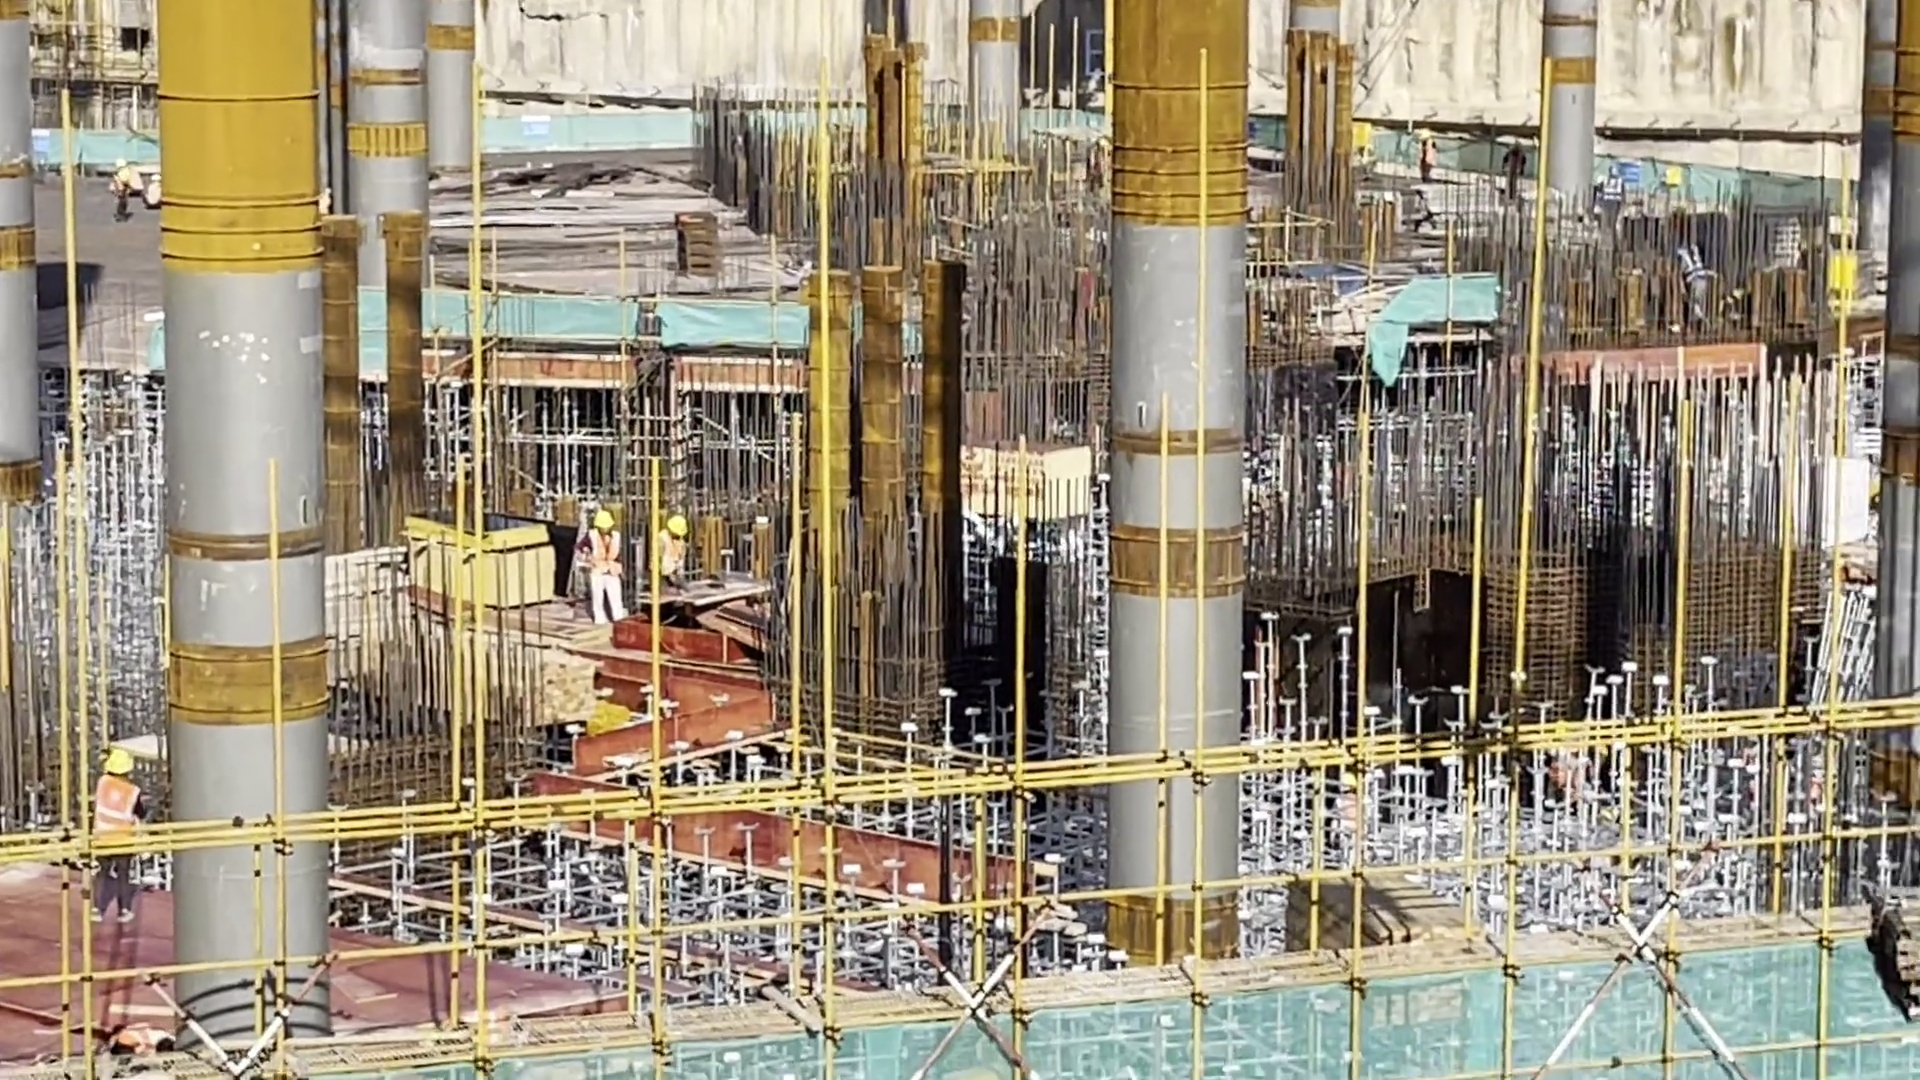board: (1288, 874, 1466, 965), (406, 505, 551, 611)
helmet: (100, 740, 143, 791), (590, 508, 622, 538), (666, 515, 688, 547)
person: (72, 733, 150, 951), (579, 508, 627, 627), (654, 513, 700, 590), (1495, 134, 1534, 202), (1413, 120, 1445, 188), (115, 153, 145, 200), (147, 170, 168, 215)
vest: (91, 775, 140, 857), (657, 530, 693, 585), (587, 533, 630, 579)
